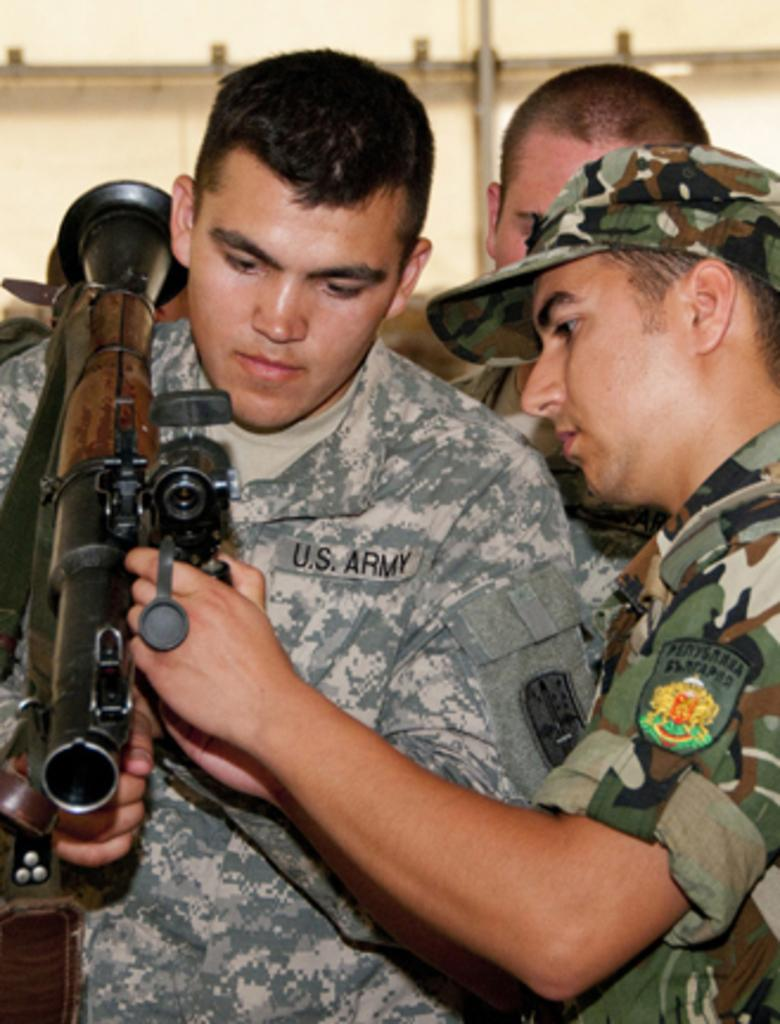Rifle: (0, 180, 232, 884)
